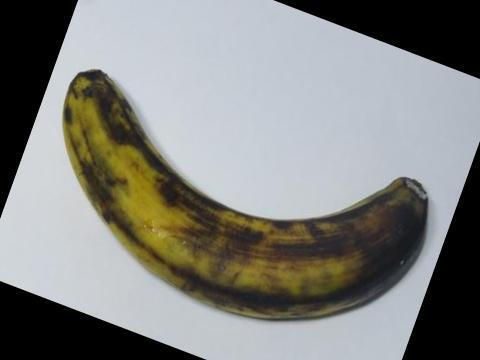overripe: (56, 58, 444, 335)
rotten: (361, 167, 446, 292)
